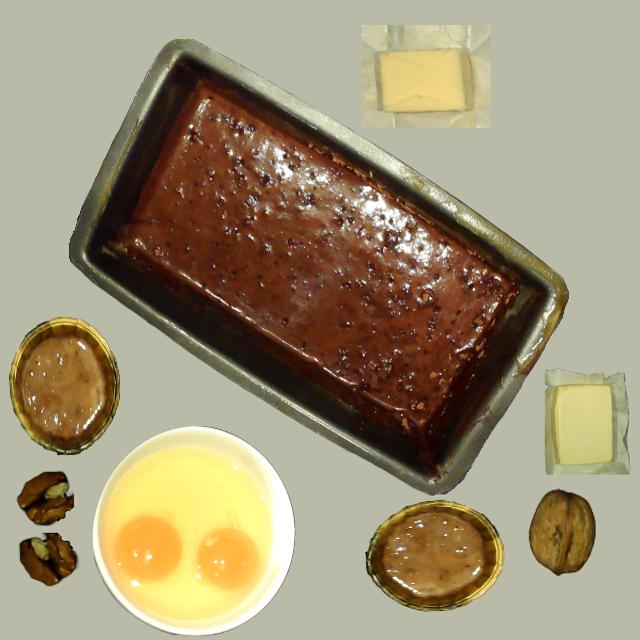Egg: (115, 516, 182, 582), (196, 529, 256, 589)
Walnut: (525, 480, 615, 581)
